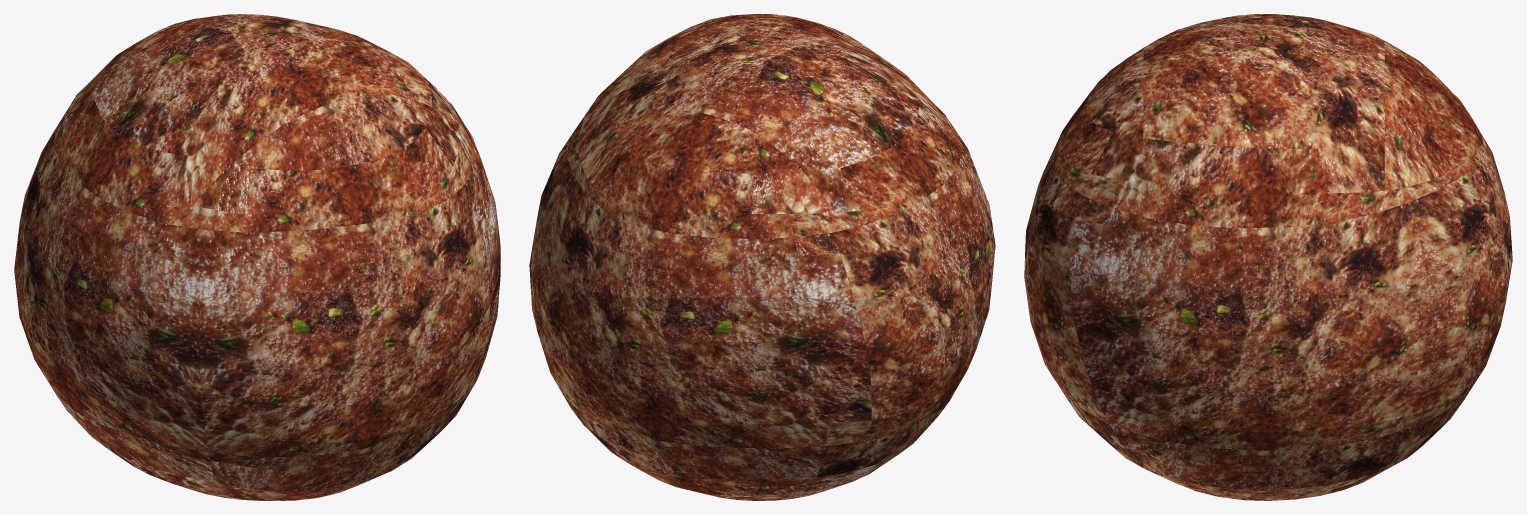
Rendered from Meatball1.fbx.
3 renders of one model, left to right at view 1: azimuth 30°, elevation 25°; view 2: azimuth 150°, elevation 25°; view 3: azimuth 270°, elevation 25°, orthographic. The views are drawn at different scales.
Parts seen in each view (by area): view 1: Sphere; view 2: Sphere; view 3: Sphere.
Part boxes in pixels (bbox=[...]): Sphere: bbox=[14, 14, 500, 500]; Sphere: bbox=[529, 14, 995, 500]; Sphere: bbox=[1024, 14, 1512, 500].
Size of the model in its own units: 195 by 200 by 202.
